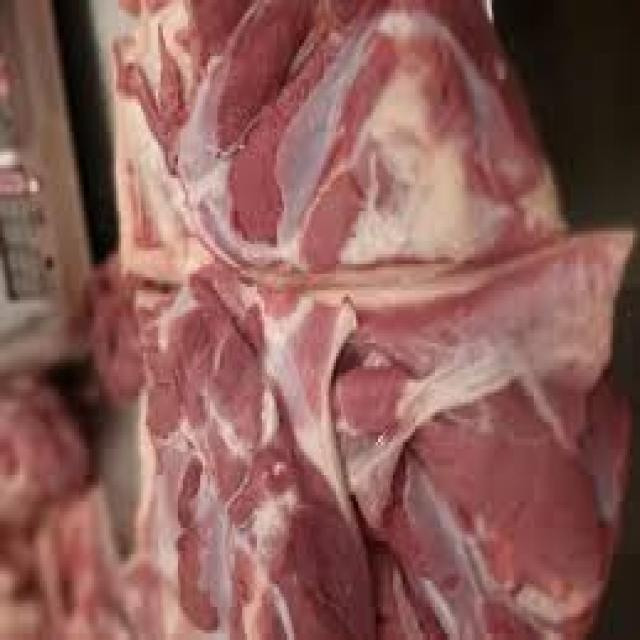Pork: (0, 0, 633, 638), (139, 274, 373, 637)
